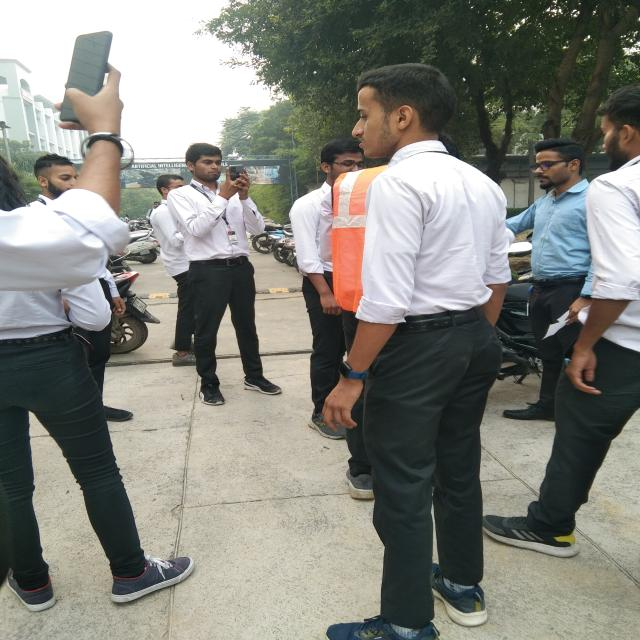unsafe: (331, 60, 503, 640), (520, 83, 640, 565), (150, 136, 284, 407), (498, 132, 592, 423)
